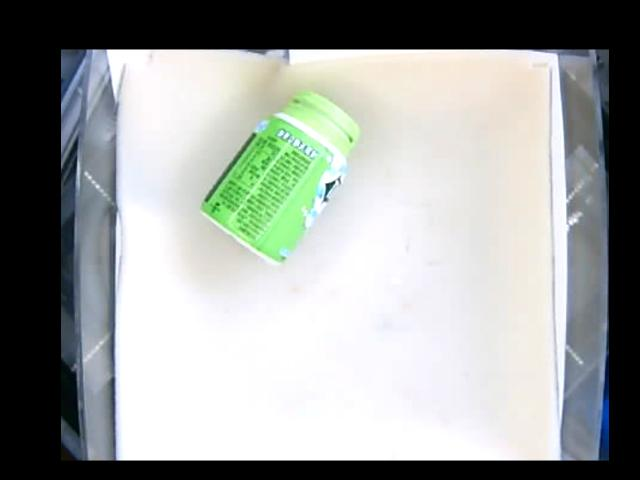Bottle: (197, 88, 363, 264)
